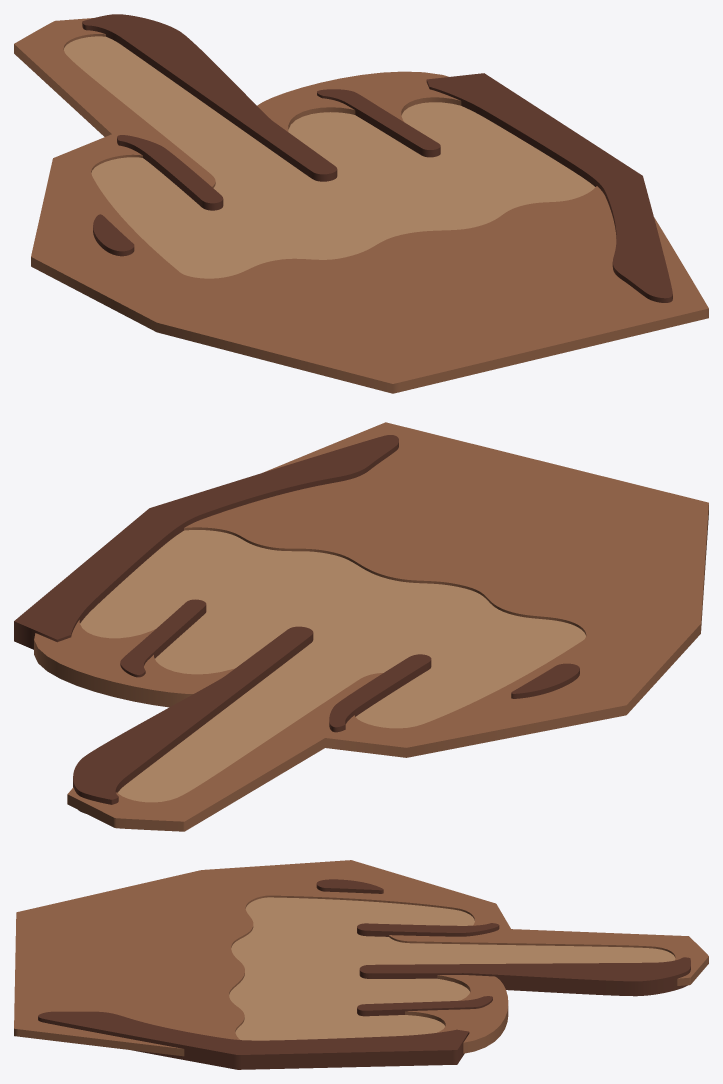
Rendered from emoji_u1f595_1f3fd.glb.
3 renders of one model, top to bottom at view 1: azimuth 30°, elevation 25°; view 2: azimuth 150°, elevation 25°; view 3: azimuth 270°, elevation 25°, orthographic. The views are drawn at different scales.
Parts seen in each view (by area): view 1: emoji_u1f595_1f3fd; view 2: emoji_u1f595_1f3fd; view 3: emoji_u1f595_1f3fd.
Boxes of the visible parts, x1,y1,x2,y2 form: emoji_u1f595_1f3fd: (14,14,708,393); emoji_u1f595_1f3fd: (14,422,708,831); emoji_u1f595_1f3fd: (14,860,708,1069).
Bounding box in the file's own units: 0.0231 × 0.0008 × 0.0341.
